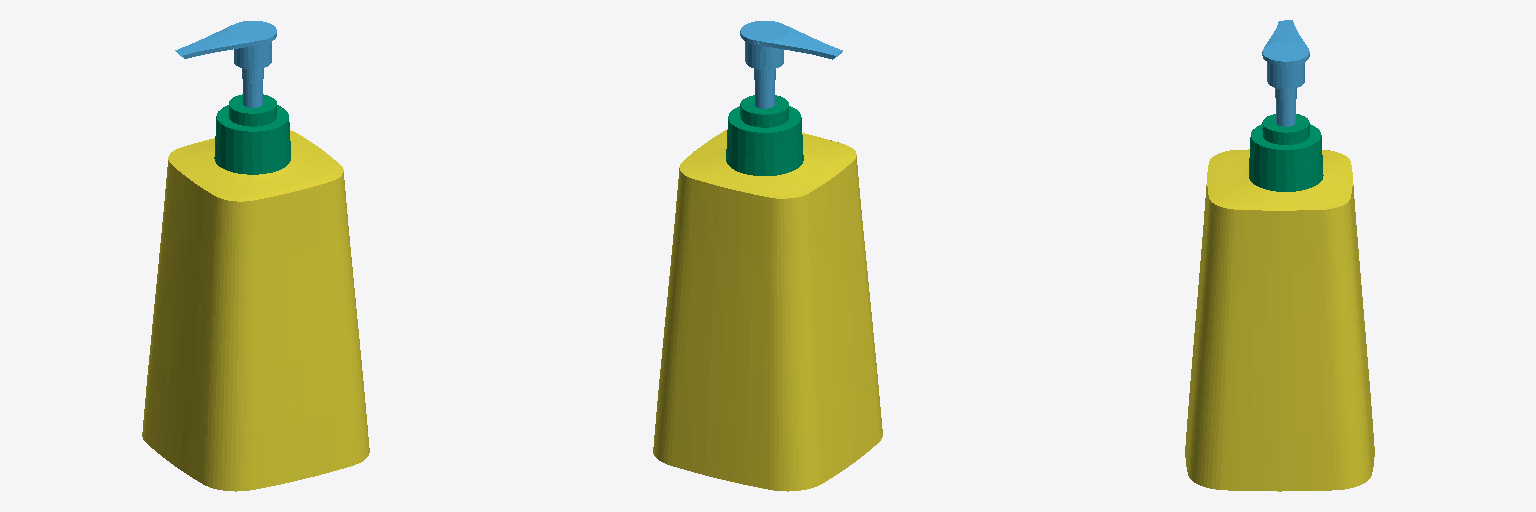
robot.urdf — partnet_2cb950b9-43d6-4d7d-8352-2f70c936dd6a:
<?xml version="1.0" ?>
<robot name="partnet_2cb950b9-43d6-4d7d-8352-2f70c936dd6a">
	<link name="base"/>
	<link name="link_0">
		<visual name="pressing_lid-1">
			<origin xyz="0.013220050530103724 0 0.00017385150868072866"/>
			<geometry>
				<mesh filename="textured_objs/original_12.obj"/>
			</geometry>
		</visual>
		<visual name="pressing_lid-1">
			<origin xyz="0.013220050530103724 0 0.00017385150868072866"/>
			<geometry>
				<mesh filename="textured_objs/original_13.obj"/>
			</geometry>
		</visual>
		<visual name="pressing_lid-1">
			<origin xyz="0.013220050530103724 0 0.00017385150868072866"/>
			<geometry>
				<mesh filename="textured_objs/original_14.obj"/>
			</geometry>
		</visual>
		<visual name="pressing_lid-1">
			<origin xyz="0.013220050530103724 0 0.00017385150868072866"/>
			<geometry>
				<mesh filename="textured_objs/original_15.obj"/>
			</geometry>
		</visual>
		<collision>
			<origin xyz="0.013220050530103724 0 0.00017385150868072866"/>
			<geometry>
				<mesh filename="textured_objs/original_12.obj"/>
			</geometry>
		</collision>
		<collision>
			<origin xyz="0.013220050530103724 0 0.00017385150868072866"/>
			<geometry>
				<mesh filename="textured_objs/original_13.obj"/>
			</geometry>
		</collision>
		<collision>
			<origin xyz="0.013220050530103724 0 0.00017385150868072866"/>
			<geometry>
				<mesh filename="textured_objs/original_14.obj"/>
			</geometry>
		</collision>
		<collision>
			<origin xyz="0.013220050530103724 0 0.00017385150868072866"/>
			<geometry>
				<mesh filename="textured_objs/original_15.obj"/>
			</geometry>
		</collision>
	</link>
	<joint name="joint_0" type="continuous">
		<origin xyz="0.0 0 0.0"/>
		<axis xyz="0 1 0"/>
		<child link="link_0"/>
		<parent link="link_0_helper"/>
	</joint>
	<link name="link_1">
		<visual name="head-6">
			<origin xyz="0.013219967587296749 0 0.00017342195729570277"/>
			<geometry>
				<mesh filename="textured_objs/original_7.obj"/>
			</geometry>
		</visual>
		<visual name="head-6">
			<origin xyz="0.013219967587296749 0 0.00017342195729570277"/>
			<geometry>
				<mesh filename="textured_objs/original_9.obj"/>
			</geometry>
		</visual>
		<visual name="head-6">
			<origin xyz="0.013219967587296749 0 0.00017342195729570277"/>
			<geometry>
				<mesh filename="textured_objs/original_11.obj"/>
			</geometry>
		</visual>
		<visual name="head-6">
			<origin xyz="0.013219967587296749 0 0.00017342195729570277"/>
			<geometry>
				<mesh filename="textured_objs/original_10.obj"/>
			</geometry>
		</visual>
		<collision>
			<origin xyz="0.013219967587296749 0 0.00017342195729570277"/>
			<geometry>
				<mesh filename="textured_objs/original_7.obj"/>
			</geometry>
		</collision>
		<collision>
			<origin xyz="0.013219967587296749 0 0.00017342195729570277"/>
			<geometry>
				<mesh filename="textured_objs/original_9.obj"/>
			</geometry>
		</collision>
		<collision>
			<origin xyz="0.013219967587296749 0 0.00017342195729570277"/>
			<geometry>
				<mesh filename="textured_objs/original_11.obj"/>
			</geometry>
		</collision>
		<collision>
			<origin xyz="0.013219967587296749 0 0.00017342195729570277"/>
			<geometry>
				<mesh filename="textured_objs/original_10.obj"/>
			</geometry>
		</collision>
	</link>
	<joint name="joint_1" type="continuous">
		<origin xyz="0.0 0 0.0"/>
		<axis xyz="0 1 0"/>
		<child link="link_1"/>
		<parent link="link_1_helper"/>
	</joint>
	<link name="link_2">
		<visual name="base_body-7">
			<origin xyz="0 0 0"/>
			<geometry>
				<mesh filename="textured_objs/original_4.obj"/>
			</geometry>
		</visual>
		<visual name="base_body-7">
			<origin xyz="0 0 0"/>
			<geometry>
				<mesh filename="textured_objs/original_3.obj"/>
			</geometry>
		</visual>
		<visual name="base_body-7">
			<origin xyz="0 0 0"/>
			<geometry>
				<mesh filename="textured_objs/original_2.obj"/>
			</geometry>
		</visual>
		<visual name="base_body-7">
			<origin xyz="0 0 0"/>
			<geometry>
				<mesh filename="textured_objs/original_5.obj"/>
			</geometry>
		</visual>
		<visual name="base_body-7">
			<origin xyz="0 0 0"/>
			<geometry>
				<mesh filename="textured_objs/original_6.obj"/>
			</geometry>
		</visual>
		<visual name="base_body-7">
			<origin xyz="0 0 0"/>
			<geometry>
				<mesh filename="textured_objs/original_1.obj"/>
			</geometry>
		</visual>
		<collision>
			<origin xyz="0 0 0"/>
			<geometry>
				<mesh filename="textured_objs/original_4.obj"/>
			</geometry>
		</collision>
		<collision>
			<origin xyz="0 0 0"/>
			<geometry>
				<mesh filename="textured_objs/original_3.obj"/>
			</geometry>
		</collision>
		<collision>
			<origin xyz="0 0 0"/>
			<geometry>
				<mesh filename="textured_objs/original_2.obj"/>
			</geometry>
		</collision>
		<collision>
			<origin xyz="0 0 0"/>
			<geometry>
				<mesh filename="textured_objs/original_5.obj"/>
			</geometry>
		</collision>
		<collision>
			<origin xyz="0 0 0"/>
			<geometry>
				<mesh filename="textured_objs/original_6.obj"/>
			</geometry>
		</collision>
		<collision>
			<origin xyz="0 0 0"/>
			<geometry>
				<mesh filename="textured_objs/original_1.obj"/>
			</geometry>
		</collision>
	</link>
	<joint name="joint_2" type="fixed">
		<origin rpy="1.570796326794897 0 -1.570796326794897" xyz="0 0 0"/>
		<child link="link_2"/>
		<parent link="base"/>
	</joint>
	<link name="link_0_helper">
		<inertial>
			<origin xyz="0 0 0"/>
			<mass value="1e-6"/>
			<inertia ixx="1e-10" ixy="0" ixz="0" iyy="1e-10" iyz="0" izz="1e-10"/>
		</inertial>
	</link>
	<joint name="joint_3" type="prismatic">
		<origin xyz="-8.294280697505874e-08 0 -4.295513850258864e-07"/>
		<axis xyz="0 -1 0"/>
		<child link="link_0_helper"/>
		<parent link="link_1"/>
		<limit lower="0" upper="0.1"/>
	</joint>
	<link name="link_1_helper">
		<inertial>
			<origin xyz="0 0 0"/>
			<mass value="1e-6"/>
			<inertia ixx="1e-10" ixy="0" ixz="0" iyy="1e-10" iyz="0" izz="1e-10"/>
		</inertial>
	</link>
	<joint name="joint_4" type="prismatic">
		<origin xyz="-0.013219967587296749 0 -0.00017342195729570277"/>
		<axis xyz="0 1 0"/>
		<child link="link_1_helper"/>
		<parent link="link_2"/>
		<limit lower="0" upper="0.01"/>
	</joint>
</robot>

--- Render facts (derived) ---
3 views of the same robot in one strip: view 1: azimuth 30°, elevation 25°; view 2: azimuth 150°, elevation 25°; view 3: azimuth 270°, elevation 25° (orthographic).
Robot: partnet_2cb950b9-43d6-4d7d-8352-2f70c936dd6a — 6 links, 5 joints (2 continuous, 2 prismatic, 1 fixed); root link base; default pose: all joints at 0.
Links seen in each view (by area): view 1: link_2, link_1, link_0; view 2: link_2, link_1, link_0; view 3: link_2, link_1, link_0.
Boxes of the visible links, <box> form: link_2: <box>142,130,369,491</box>; link_1: <box>214,94,290,174</box>; link_0: <box>175,21,276,107</box>; link_2: <box>653,129,882,491</box>; link_1: <box>726,95,803,175</box>; link_0: <box>740,21,842,108</box>; link_2: <box>1185,149,1374,491</box>; link_1: <box>1249,114,1323,191</box>; link_0: <box>1262,20,1309,126</box>.
Size in the robot's own frame: 0.6777 by 0.6777 by 1.58 metres.
Meshes: 14 distinct files referenced, 14 mesh visuals loaded (14 OBJ).
